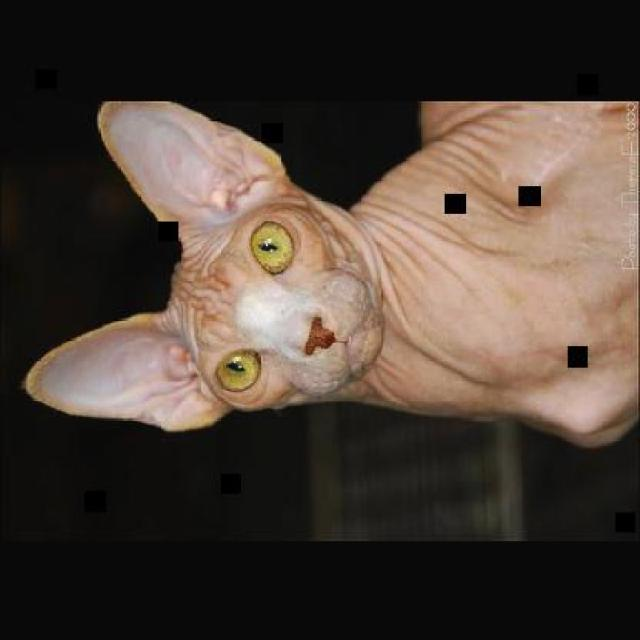unauthorized: (20, 97, 638, 449)
